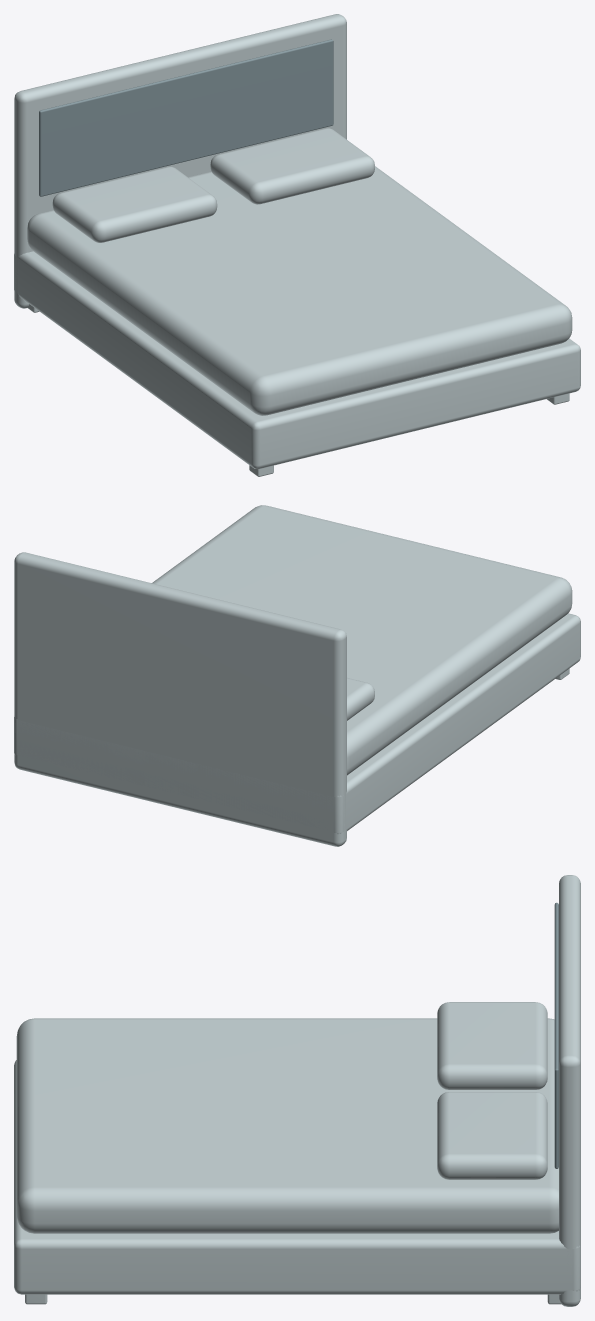
File: bed.glb
The picture shows the model from 3 angles, top to bottom: view 1: azimuth 30°, elevation 25°; view 2: azimuth 150°, elevation 25°; view 3: azimuth 270°, elevation 25°; orthographic projection. The views are drawn at different scales.
Parts seen in each view (by area): view 1: mattress, frame, headboard_inlay, headboard, pillow_1, pillow_-1; view 2: headboard, mattress, frame, pillow_-1; view 3: mattress, frame, pillow_1, pillow_-1, headboard, headboard_inlay.
Boxes of the visible parts, box(x1,y1,x2,y2) form: mattress: box(27, 166, 572, 415); frame: box(14, 251, 580, 469); headboard_inlay: box(39, 39, 333, 196); headboard: box(14, 14, 346, 308); pillow_1: box(210, 128, 374, 204); pillow_-1: box(52, 166, 217, 242); headboard: box(14, 552, 346, 846); mattress: box(152, 505, 572, 775); frame: box(14, 613, 580, 833); pillow_-1: box(347, 678, 374, 720); mattress: box(16, 1018, 558, 1233); frame: box(14, 1060, 580, 1294); pillow_1: box(437, 1092, 547, 1179); pillow_-1: box(437, 1002, 547, 1089); headboard: box(559, 875, 580, 1306); headboard_inlay: box(554, 902, 558, 1168).
Size of the model in its own units: 1.6 by 1 by 2.05.
